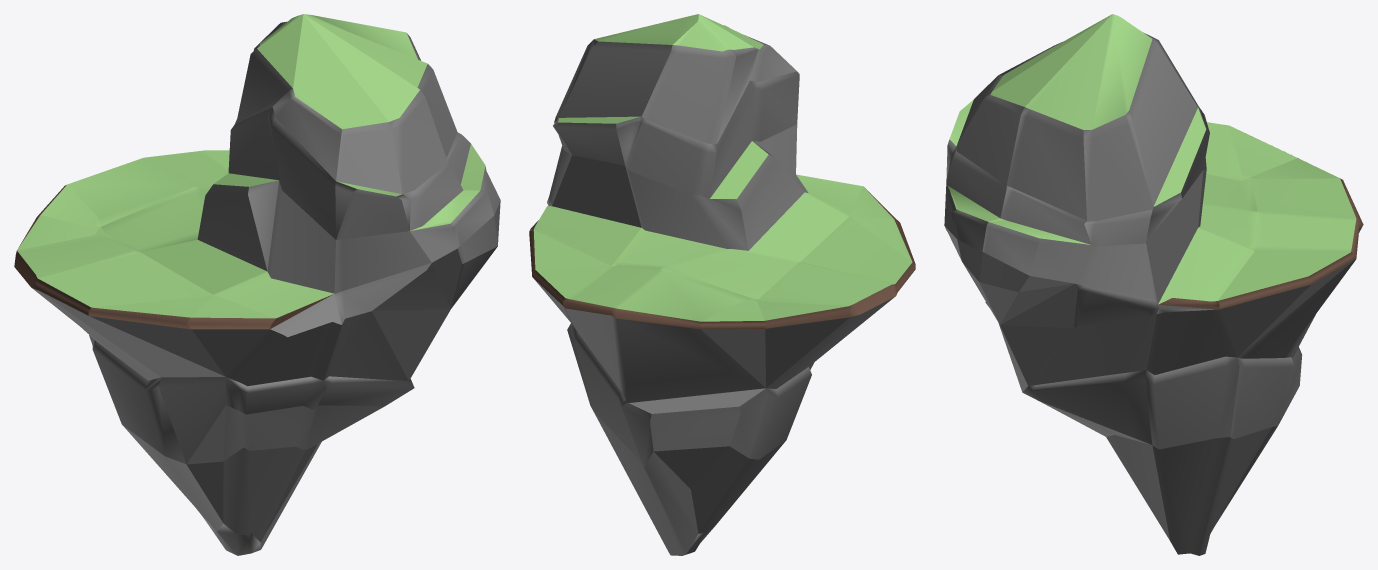
File: Island1.fbx
The picture shows the model from 3 angles, left to right: view 1: azimuth 30°, elevation 25°; view 2: azimuth 150°, elevation 25°; view 3: azimuth 270°, elevation 25°; orthographic projection. The views are drawn at different scales.
Visible parts, largest first — view 1: Island_1; view 2: Island_1; view 3: Island_1.
Boxes of the visible parts, x1,y1,x2,y2 form: Island_1: [14, 14, 500, 555]; Island_1: [529, 14, 915, 555]; Island_1: [944, 14, 1363, 555].
Size of the model in its own units: 4230 by 5533 by 3837.
